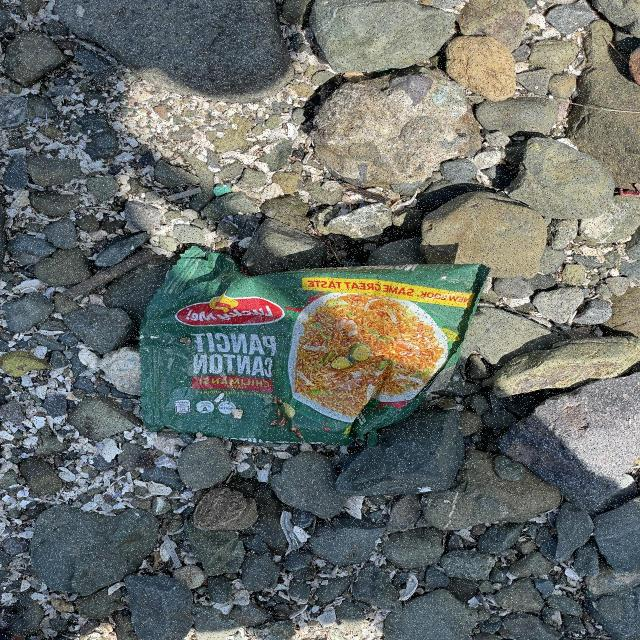plastic_waste: (143, 246, 494, 453)
